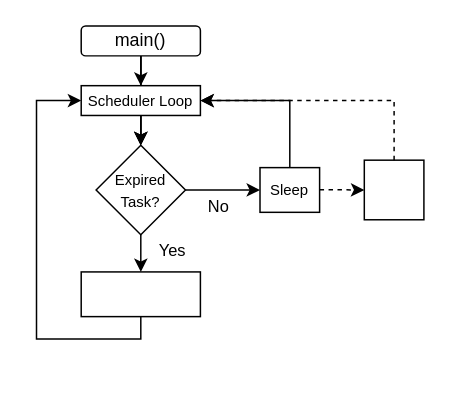
The diagram is 450 pixels wide and 407 high, and some of its shapes have lost their labels. Here are the shapes that lost their labels. From the top down, the centre of each, then its label:
At pixel 393 189: "ISR".
At pixel 140 293: "Task Handler".
